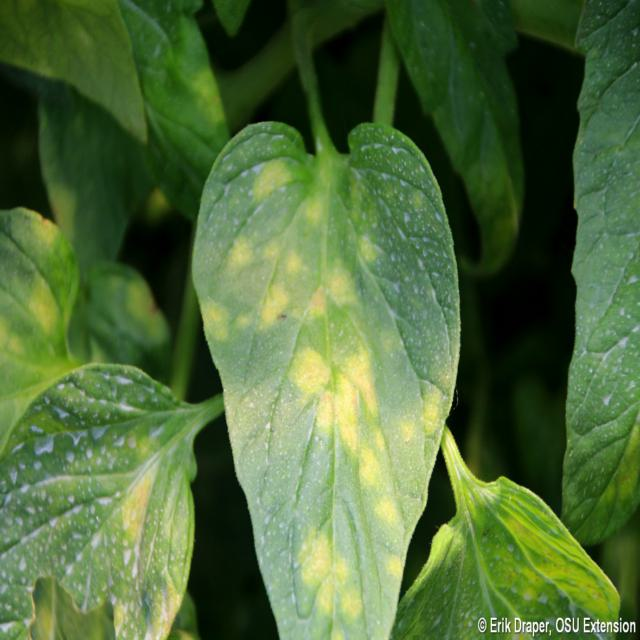Leaf_Mold: (292, 342, 398, 526), (221, 230, 303, 332), (296, 527, 366, 640), (115, 466, 158, 541), (304, 266, 361, 322), (399, 383, 441, 447), (143, 577, 181, 640), (247, 159, 292, 207), (25, 280, 62, 334), (24, 211, 64, 249), (196, 297, 229, 343)
